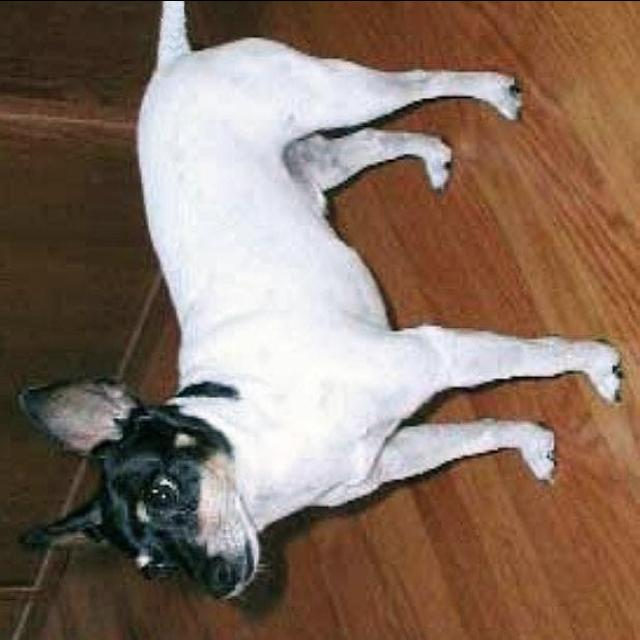toy_terrier: (15, 2, 626, 599)
